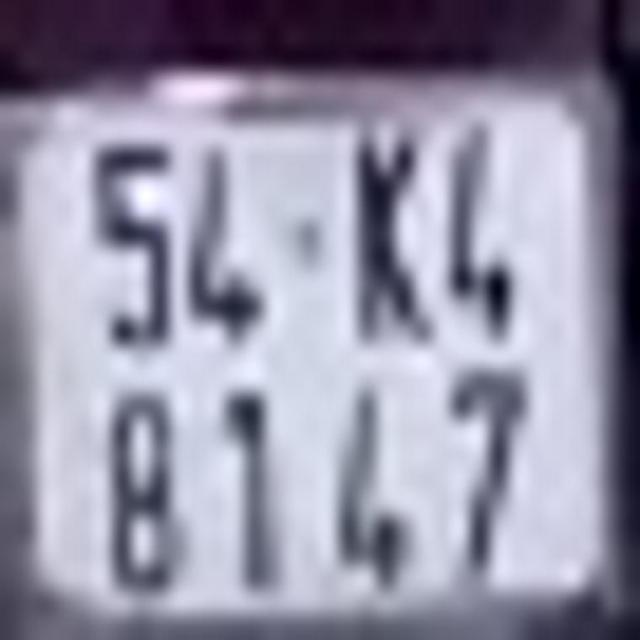1: (213, 383, 284, 588)
4: (315, 373, 421, 590), (434, 113, 524, 344), (188, 138, 271, 341)
5: (84, 130, 173, 338)
7: (443, 360, 532, 574)
8: (104, 383, 183, 588)
K: (342, 118, 429, 342)
